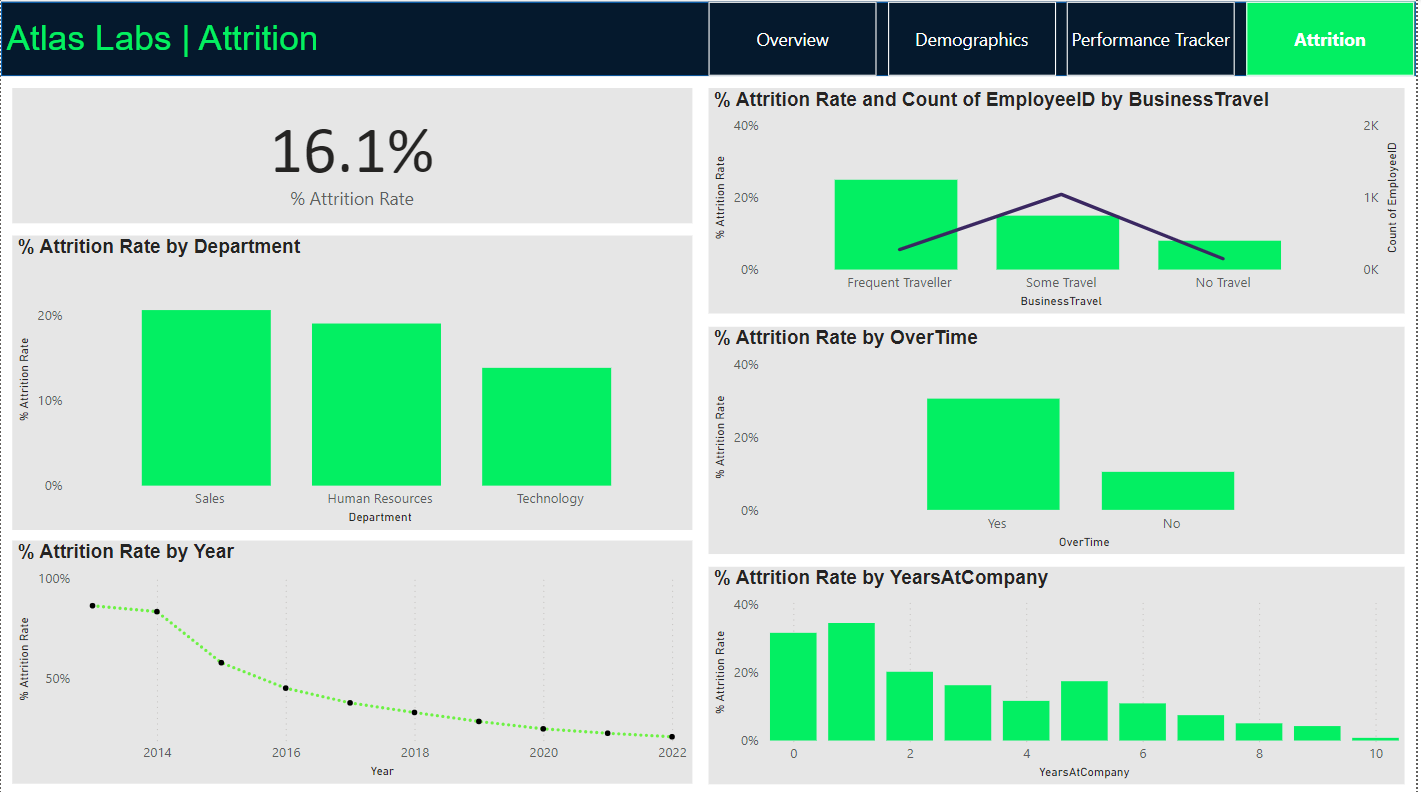

This screenshot's page, from the dashboard's own definition file:
{"tool":"powerbi","page":{"name":"Attrition","canvas":[1280,720],"ordinal":3},"visuals":[{"type":"shape","box":[0,3.8,1280,67.5],"z":0},{"type":"textbox","box":[0,13.8,397.5,47.5],"z":1000},{"type":"card","fields":{"Values":["Employee (1).% Attrition Rate"]},"box":[10,81.2,615,122.5],"z":2000},{"type":"pageNavigator","box":[640,3.8,640,67.5],"z":3000},{"type":"clusteredColumnChart","fields":{"Category":["Employee.Department"],"Y":["Employee.% Attrition Rate"]},"box":[10,214.4,615,266.2],"z":4000},{"type":"lineChart","fields":{"Y":["Employee.% Attrition Rate"],"Category":["Date.Year"]},"box":[10,491.2,615,220],"z":5000},{"type":"lineClusteredColumnComboChart","fields":{"Y":["Employee.% Attrition Rate"],"Category":["Employee.BusinessTravel"],"Y2":["CountNonNull(Employee.EmployeeID)"]},"box":[639.4,81.7,629.6,204.2],"z":6000},{"type":"clusteredColumnChart","fields":{"Y":["Employee.% Attrition Rate"],"Category":["Employee.OverTime"]},"box":[639.4,297.2,629.6,205.6],"z":7000},{"type":"clusteredColumnChart","fields":{"Y":["Employee.% Attrition Rate"],"Category":["Employee.YearsAtCompany"]},"box":[639.4,514.1,629.6,197.2],"z":8000}]}

Visuals, with their boxes in screenshot pixels (x1, y1, x2, y2), scaled from the page's 1280x720 canvas onto the 1421x792 screenshot:
shape: {"left": 0, "top": 4, "right": 1420, "bottom": 78}
textbox: {"left": 0, "top": 15, "right": 441, "bottom": 67}
card - Employee (1).% Attrition Rate: {"left": 11, "top": 89, "right": 694, "bottom": 224}
pageNavigator: {"left": 710, "top": 4, "right": 1420, "bottom": 78}
clusteredColumnChart - Employee.Department x Employee.% Attrition Rate: {"left": 11, "top": 236, "right": 694, "bottom": 529}
lineChart - Employee.% Attrition Rate x Date.Year: {"left": 11, "top": 540, "right": 694, "bottom": 782}
lineClusteredColumnComboChart - Employee.% Attrition Rate x Employee.BusinessTravel: {"left": 710, "top": 90, "right": 1409, "bottom": 314}
clusteredColumnChart - Employee.% Attrition Rate x Employee.OverTime: {"left": 710, "top": 327, "right": 1409, "bottom": 553}
clusteredColumnChart - Employee.% Attrition Rate x Employee.YearsAtCompany: {"left": 710, "top": 566, "right": 1409, "bottom": 782}
